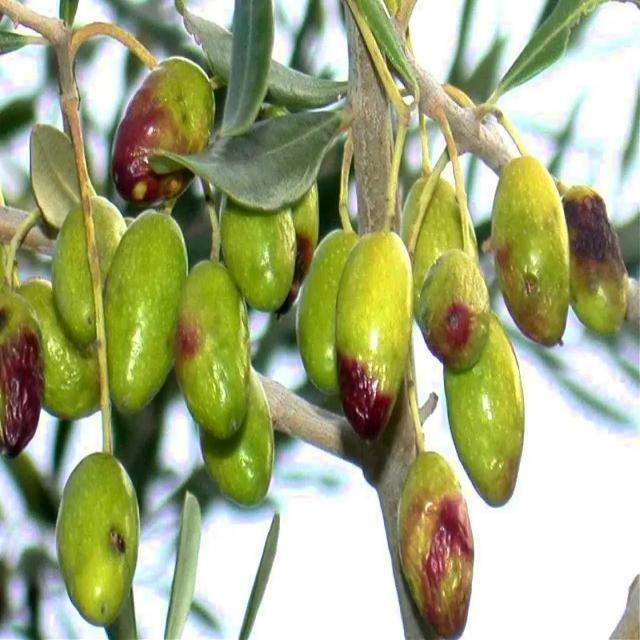Anthracnose: (336, 230, 412, 438), (112, 56, 215, 206), (492, 156, 570, 346), (398, 452, 474, 640), (58, 452, 140, 623), (564, 186, 628, 335), (416, 250, 490, 370)
